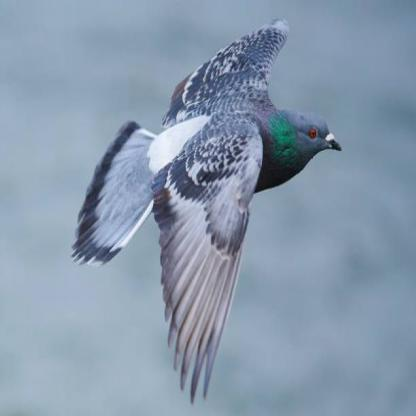Rock Pigeon: (115, 42, 343, 272)
